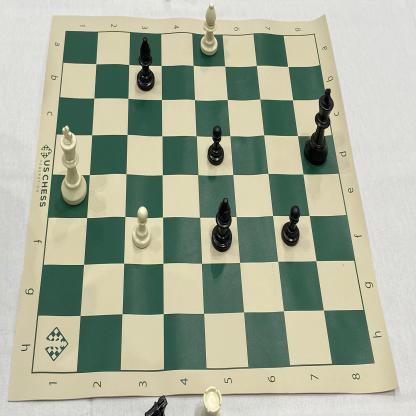black-bishop: (204, 195, 238, 259), (135, 31, 159, 96)
black-king: (302, 79, 338, 169)
black-pawn: (202, 121, 228, 168), (279, 201, 301, 251)
white-bishop: (198, 0, 221, 61)
white-king: (54, 120, 88, 211)
white-pawn: (129, 200, 155, 252)
